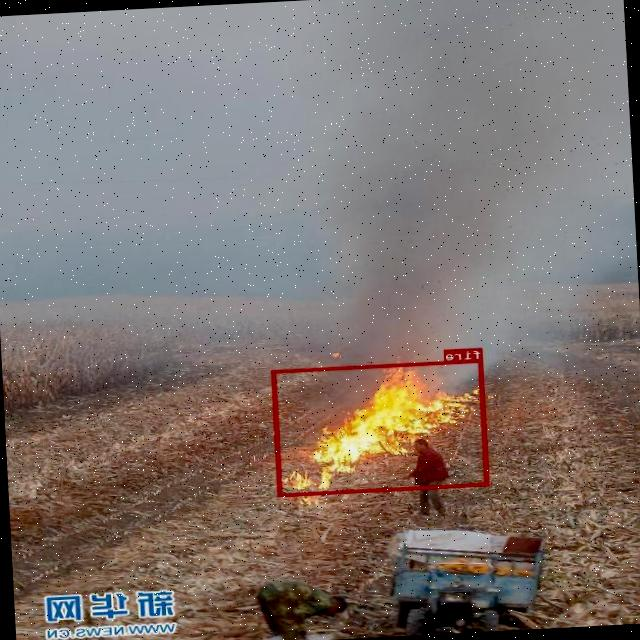fire: (272, 359, 490, 496)
